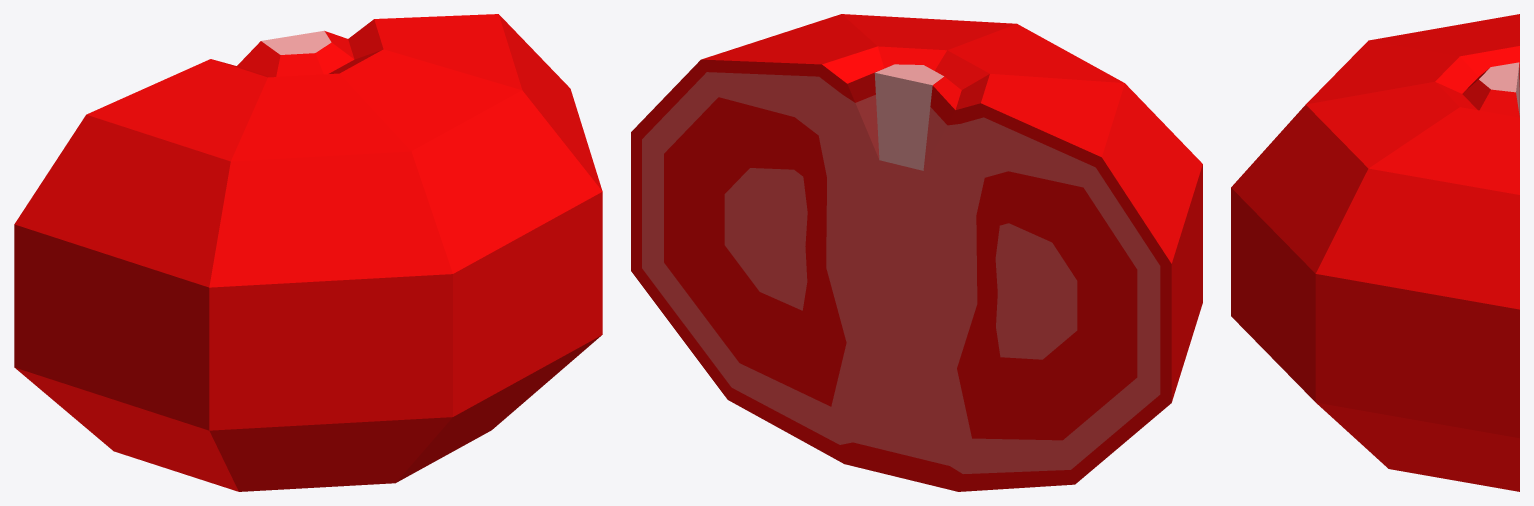
The model's file is tomato02.obj.
3 renders of one model, left to right at view 1: azimuth 30°, elevation 25°; view 2: azimuth 150°, elevation 25°; view 3: azimuth 270°, elevation 25°, orthographic. The views are drawn at different scales.
Parts seen in each view (by area): view 1: Cylinder; view 2: Cylinder; view 3: Cylinder.
Part boxes in pixels (box(x1,y1,x2,y2)): Cylinder: box(14, 14, 602, 491); Cylinder: box(631, 14, 1202, 491); Cylinder: box(1231, 14, 1519, 491).
Size of the model in its own units: 0.0472 by 0.0334 by 0.0236.
1 material, 1 textured.
